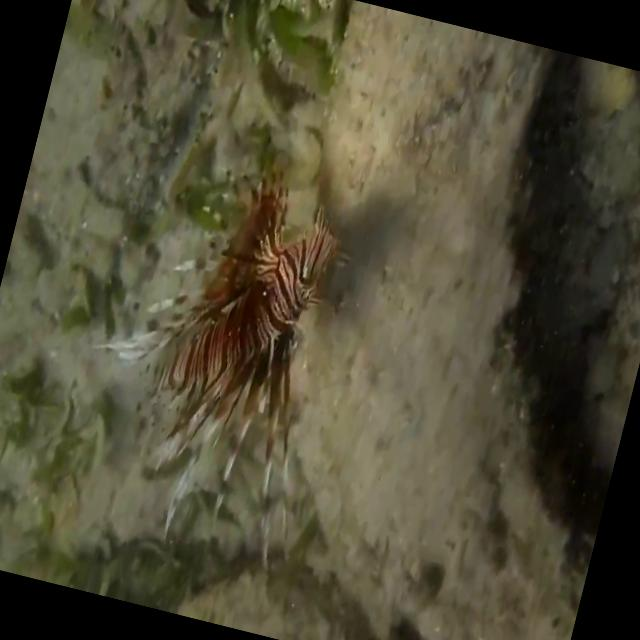Aslan Baligi: (47, 141, 377, 569)
